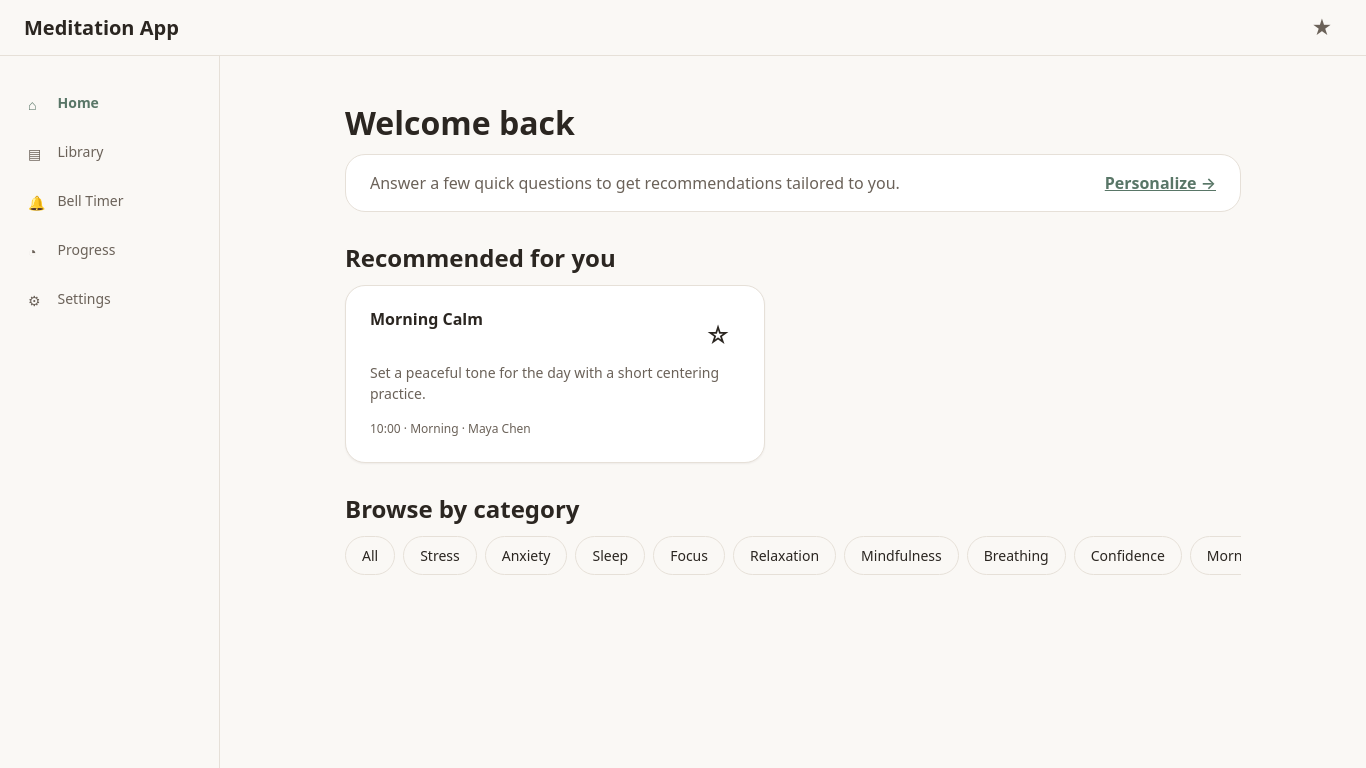
Scenario: App shell routing › navigates to Library via the primary nav
Click the link "▤ Library".
click(66, 152)  # box left=28, top=142, right=103, bottom=163
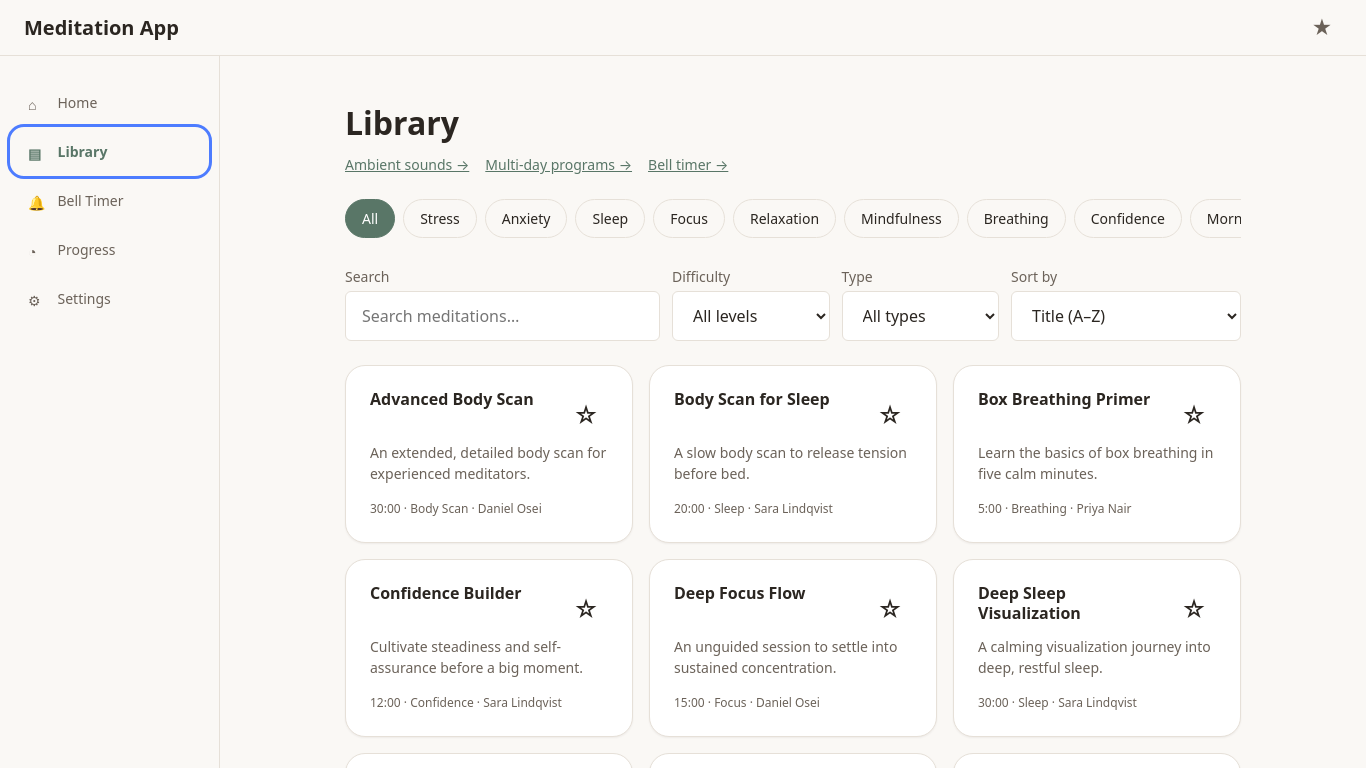
expect the heading "Library" is shown: met, box left=345, top=101, right=459, bottom=144
